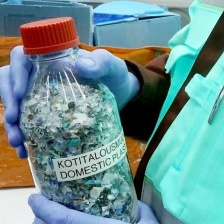bottle: (12, 14, 144, 224)
